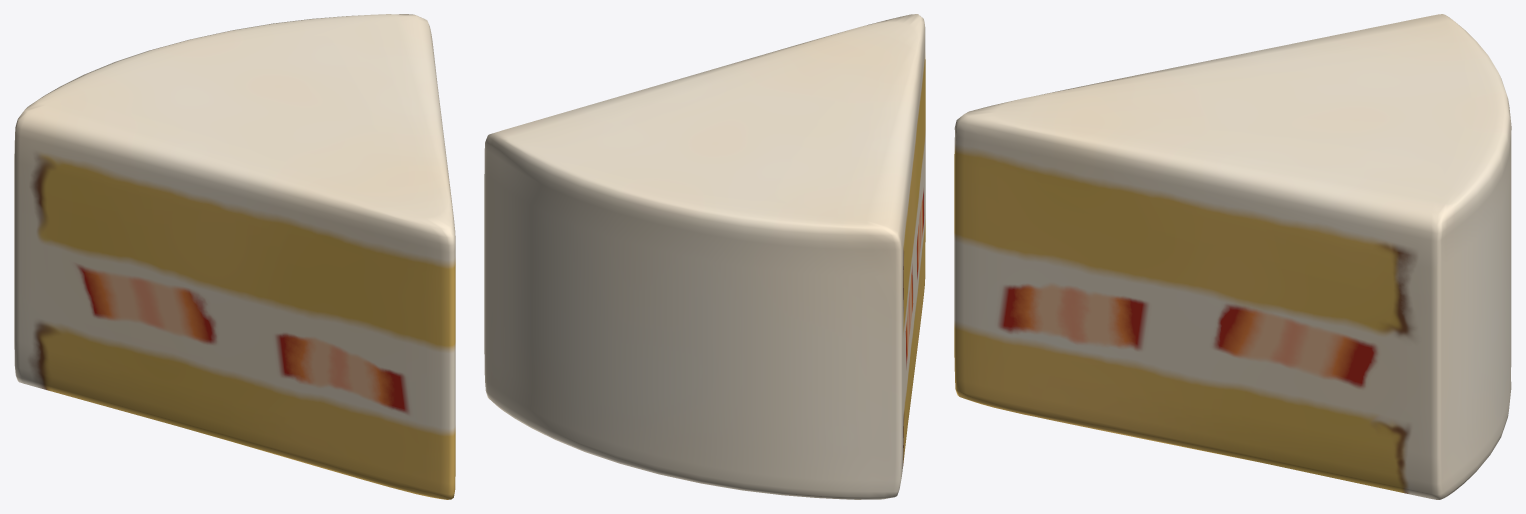
Rendered from cake2.fbx.
3 views of the same model, side by side, from view 1: azimuth 30°, elevation 25°; view 2: azimuth 150°, elevation 25°; view 3: azimuth 270°, elevation 25° (orthographic). The views are drawn at different scales.
Visible parts, largest first — view 1: cake; view 2: cake; view 3: cake.
Part boxes in pixels (box(x1,y1,x2,y2)): cake: box(14, 14, 455, 499); cake: box(484, 14, 925, 499); cake: box(954, 14, 1511, 499).
Bounding box in the file's own units: 0.2724 × 0.1724 × 0.3004.
